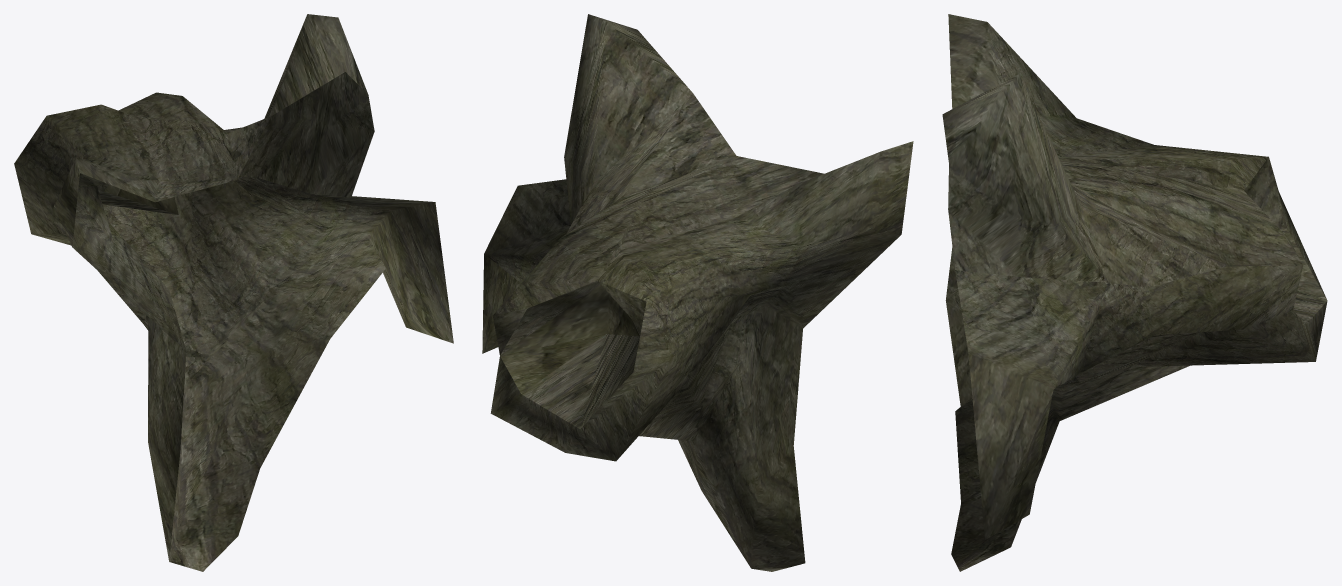
File: TI_Old_Tree_09_LOD_02.fbx
3 views of the same model, side by side, from view 1: azimuth 30°, elevation 25°; view 2: azimuth 150°, elevation 25°; view 3: azimuth 270°, elevation 25° (orthographic). The views are drawn at different scales.
Parts seen in each view (by area): view 1: TI_Old_Tree_09_LOD_02; view 2: TI_Old_Tree_09_LOD_02; view 3: TI_Old_Tree_09_LOD_02.
Boxes of the visible parts, x1,y1,x2,y2 form: TI_Old_Tree_09_LOD_02: (14,14,453,571); TI_Old_Tree_09_LOD_02: (482,14,913,571); TI_Old_Tree_09_LOD_02: (942,14,1327,571).
Size of the model in its own units: 3.04 by 3.77 by 2.31.
